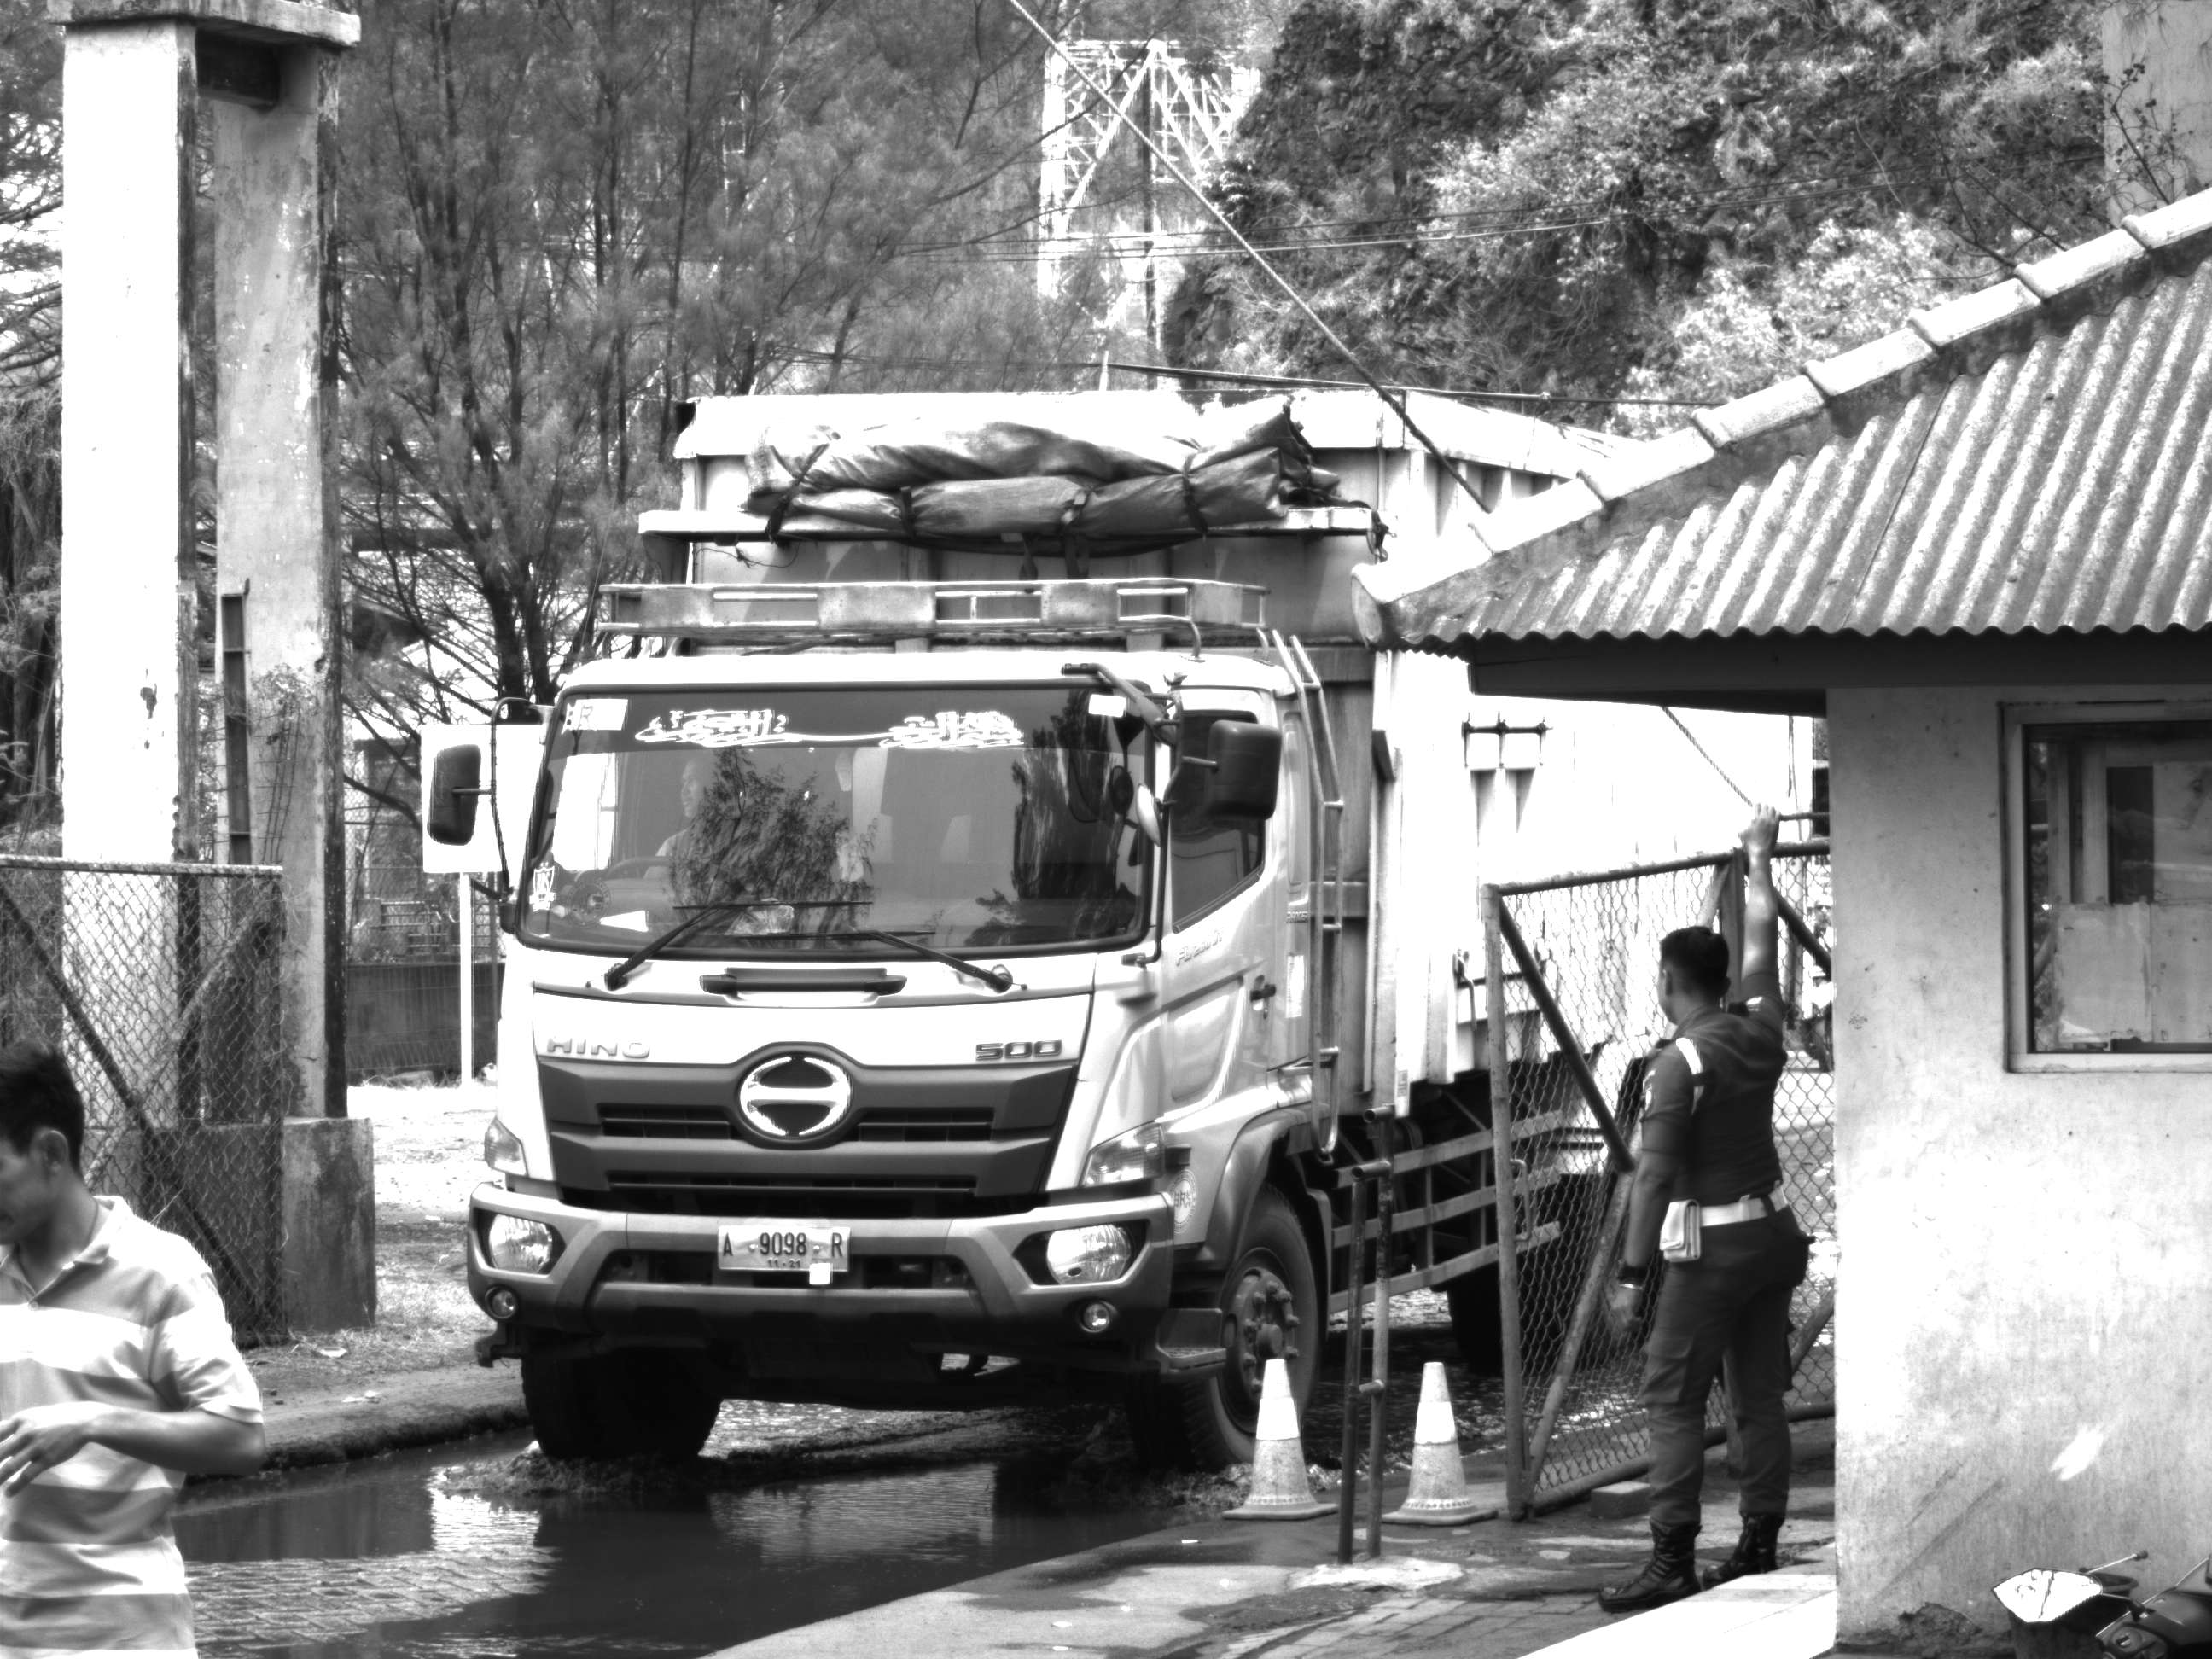day_truck_front: (418, 561, 1357, 1480)
plate: (713, 1215, 855, 1285)
